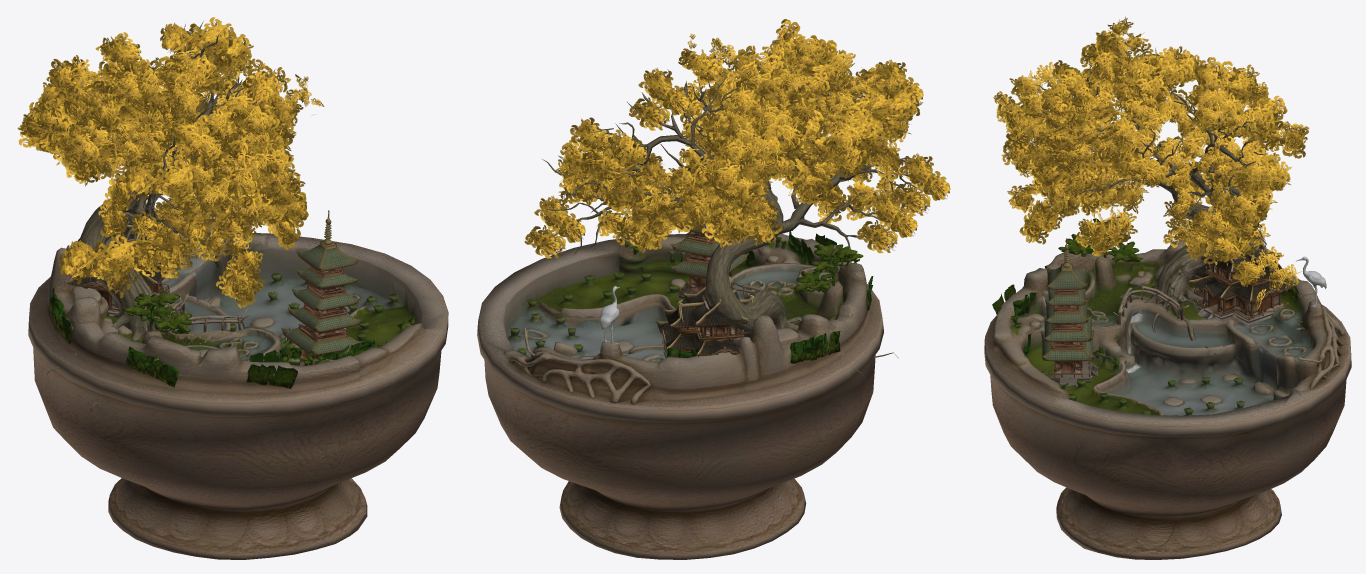
The model's file is treepot.glb.
3 renders of one model, left to right at view 1: azimuth 30°, elevation 25°; view 2: azimuth 150°, elevation 25°; view 3: azimuth 270°, elevation 25°, orthographic. The views are drawn at different scales.
Parts seen in each view (by area): view 1: tripo_node_3c3b3196-6c50-4afd-89be-210f0e6def15; view 2: tripo_node_3c3b3196-6c50-4afd-89be-210f0e6def15; view 3: tripo_node_3c3b3196-6c50-4afd-89be-210f0e6def15.
Part boxes in pixels (x1=…): tripo_node_3c3b3196-6c50-4afd-89be-210f0e6def15: x1=17, y1=17, x2=448, y2=559; tripo_node_3c3b3196-6c50-4afd-89be-210f0e6def15: x1=477, y1=19, x2=950, y2=559; tripo_node_3c3b3196-6c50-4afd-89be-210f0e6def15: x1=984, y1=16, x2=1351, y2=559.
Bounding box in the file's own units: 192 × 231 × 171.
6 materials, 6 textured.
